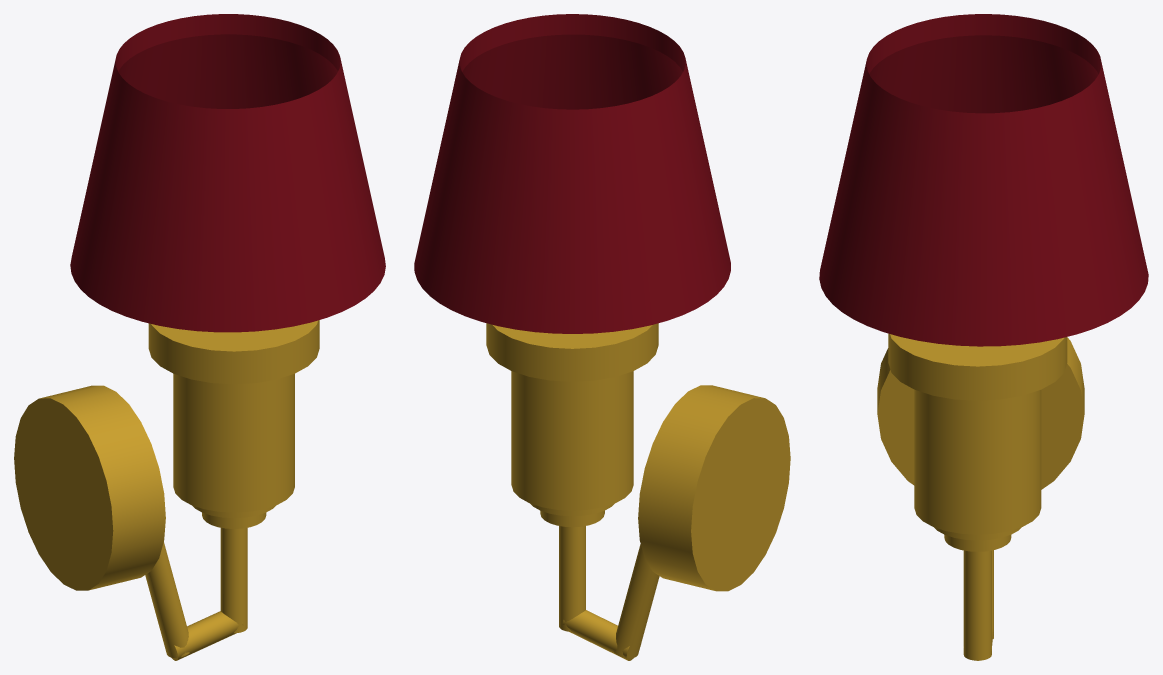
Rendered from Lamp hang enkel.fbx.
3 views of the same model, side by side, from view 1: azimuth 30°, elevation 25°; view 2: azimuth 150°, elevation 25°; view 3: azimuth 270°, elevation 25° (orthographic). The views are drawn at different scales.
Parts seen in each view (by area): view 1: Model; view 2: Model; view 3: Model.
Boxes of the visible parts, left/top/right/bottom form: Model: left=14, top=14, right=385, bottom=660; Model: left=414, top=14, right=790, bottom=660; Model: left=819, top=14, right=1148, bottom=660.
Bounding box in the file's own units: 155 × 285 × 140.
